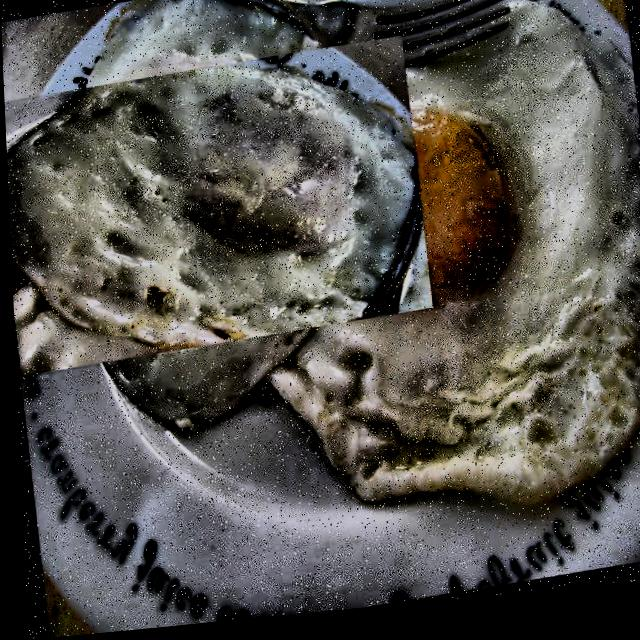Food: (292, 0, 640, 549), (4, 7, 395, 413)
